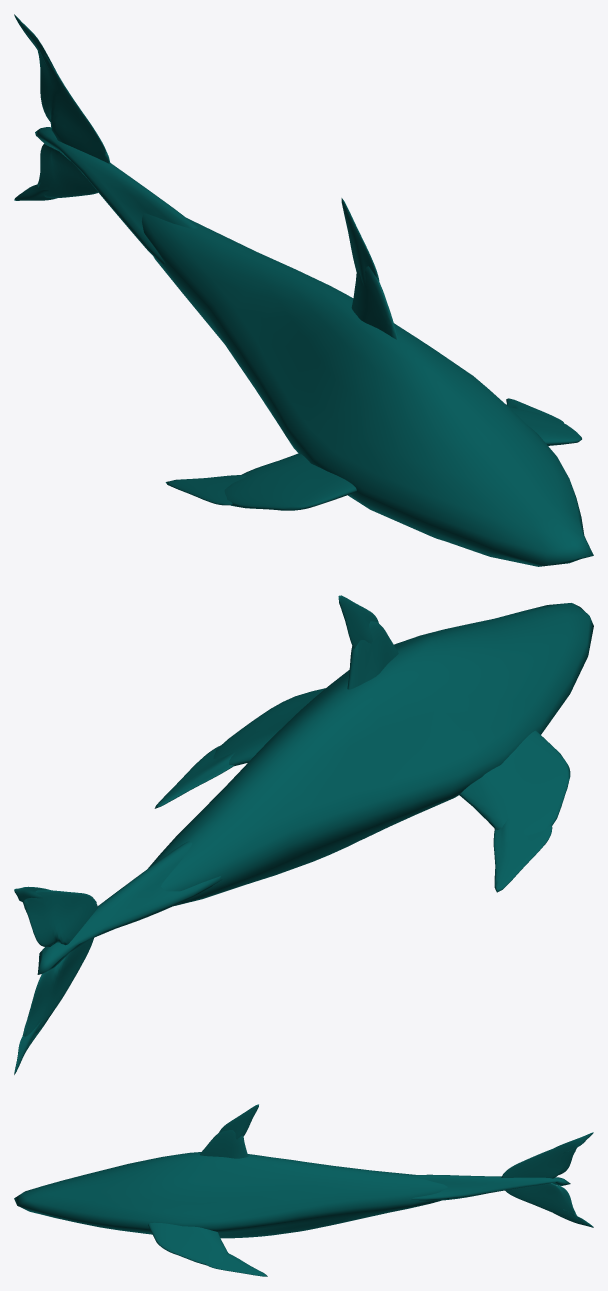
Rendered from grand poisson.fbx.
3 renders of one model, top to bottom at view 1: azimuth 30°, elevation 25°; view 2: azimuth 150°, elevation 25°; view 3: azimuth 270°, elevation 25°, orthographic. The views are drawn at different scales.
Visible parts, largest first — view 1: Poisson 01; view 2: Poisson 01; view 3: Poisson 01.
Part boxes in pixels (box(x1,y1,x2,y2)): Poisson 01: box(14, 14, 593, 566); Poisson 01: box(14, 595, 593, 1074); Poisson 01: box(14, 1104, 593, 1276).
Bounding box in the file's own units: 5.76 × 4 × 16.23.
